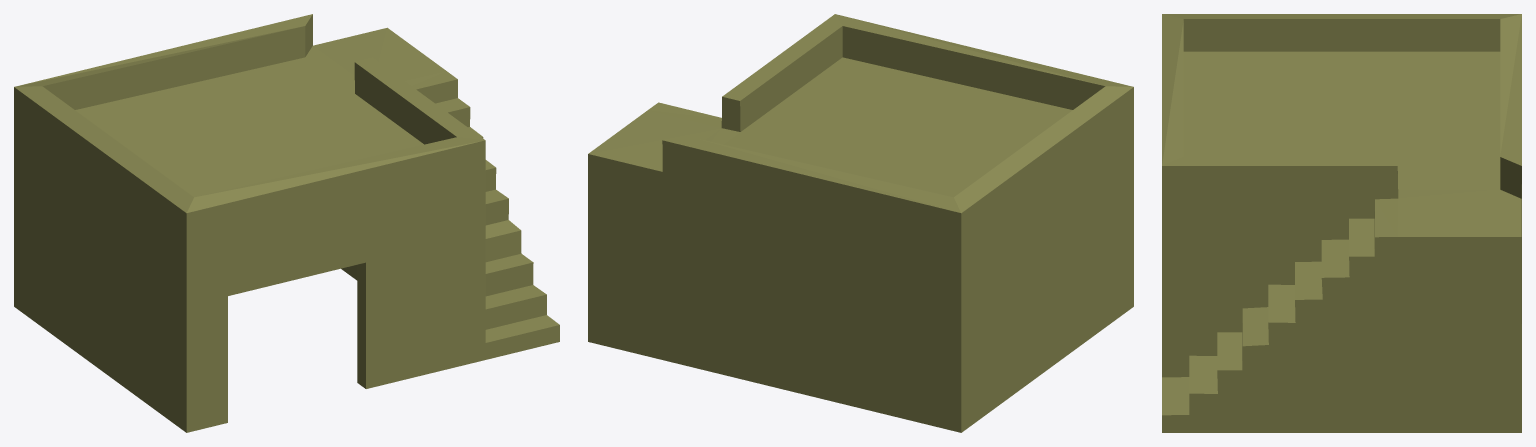
The model's file is Camp1.fbx.
The picture shows the model from 3 angles, left to right: view 1: azimuth 30°, elevation 25°; view 2: azimuth 150°, elevation 25°; view 3: azimuth 270°, elevation 25°; orthographic projection. The views are drawn at different scales.
Parts seen in each view (by area): view 1: Camp1; view 2: Camp1; view 3: Camp1.
Boxes of the visible parts, x1,y1,x2,y2 form: Camp1: (14, 14, 559, 432); Camp1: (588, 14, 1133, 432); Camp1: (1162, 14, 1521, 432).
Size of the model in its own units: 7.51 by 4.3 by 6.01.
